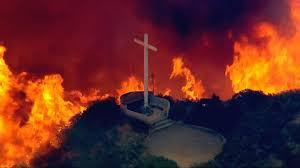fire: (169, 13, 299, 100), (0, 39, 82, 168)
